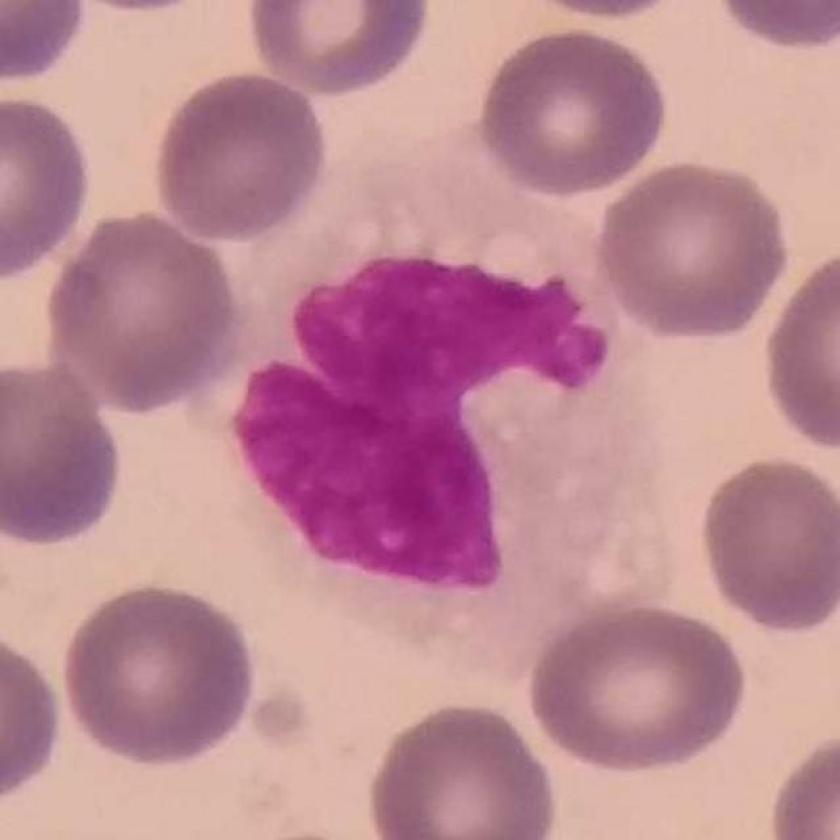monocyte: (194, 151, 687, 676)
